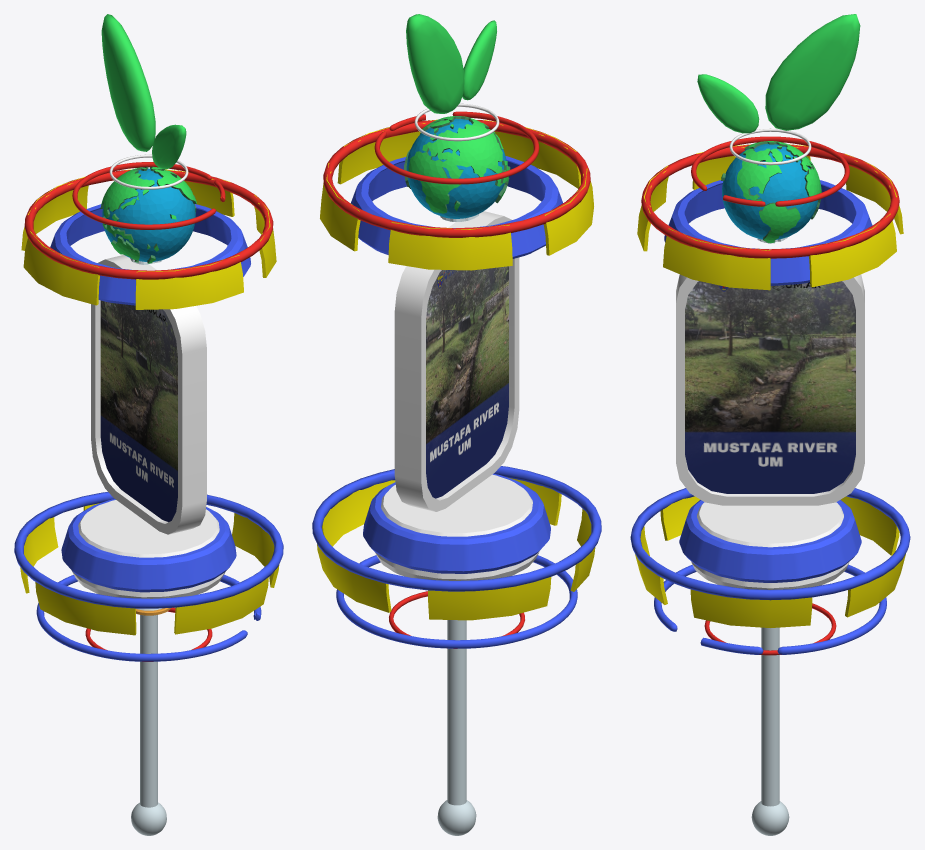
Rendered from sungai.glb.
3 renders of one model, left to right at view 1: azimuth 30°, elevation 25°; view 2: azimuth 150°, elevation 25°; view 3: azimuth 270°, elevation 25°, orthographic. The views are drawn at different scales.
Parts seen in each view (by area): view 1: pCube3, polySurface2, pasted__pSphere8, pasted__pSphere6, pasted__pCylinder9, Sphere, pasted__pCylinder10, pCube5, pasted__polySurface27, pasted__polySurface28, pasted__pCone1, pasted__polySurface30 (+3 smaller); view 2: pCube3, polySurface2, pasted__pSphere8, pasted__pSphere6, pasted__pCylinder9, Sphere, pasted__pCylinder10, pasted__polySurface27, pCube5, pasted__polySurface28, pasted__polySurface30, pasted__pCone1 (+4 smaller); view 3: pCube3, pasted__pSphere8, pCube5, pasted__pSphere6, Sphere, pasted__pCylinder9, pasted__pCylinder10, polySurface2, pasted__polySurface27, pasted__polySurface28, pasted__polySurface30, pasted__pCone1 (+4 smaller).
Boxes of the visible parts, bbox=[...] form: pCube3: bbox=[100, 300, 177, 522]; polySurface2: bbox=[91, 255, 206, 534]; pasted__pSphere8: bbox=[21, 169, 276, 309]; pasted__pSphere6: bbox=[20, 503, 279, 635]; pasted__pCylinder9: bbox=[61, 499, 236, 592]; Sphere: bbox=[100, 166, 196, 264]; pasted__pCylinder10: bbox=[71, 500, 225, 598]; pCube5: bbox=[101, 14, 186, 169]; pasted__polySurface27: bbox=[14, 492, 283, 608]; pasted__polySurface28: bbox=[24, 170, 273, 279]; pasted__pCone1: bbox=[131, 608, 166, 835]; pasted__polySurface30: bbox=[50, 204, 250, 305]; pCube3: bbox=[426, 266, 508, 498]; polySurface2: bbox=[394, 211, 519, 511]; pasted__pSphere8: bbox=[320, 119, 593, 270]; pasted__pSphere6: bbox=[317, 477, 595, 620]; pasted__pCylinder9: bbox=[363, 473, 550, 573]; Sphere: bbox=[404, 116, 510, 221]; pasted__pCylinder10: bbox=[375, 474, 539, 580]; pasted__polySurface27: bbox=[312, 466, 601, 591]; pCube5: bbox=[406, 14, 496, 113]; pasted__polySurface28: bbox=[323, 120, 590, 237]; pasted__polySurface30: bbox=[350, 156, 562, 258]; pasted__pCone1: bbox=[437, 620, 476, 835]; pCube3: bbox=[685, 281, 855, 493]; pasted__pSphere8: bbox=[637, 144, 903, 290]; pCube5: bbox=[697, 14, 860, 133]; pasted__pSphere6: bbox=[635, 496, 905, 627]; Sphere: bbox=[721, 141, 821, 243]; pasted__pCylinder9: bbox=[679, 500, 861, 582]; pasted__pCylinder10: bbox=[691, 502, 849, 589]; polySurface2: bbox=[676, 248, 864, 505]; pasted__polySurface27: bbox=[630, 488, 910, 600]; pasted__polySurface28: bbox=[641, 144, 899, 258]; pasted__polySurface30: bbox=[664, 180, 872, 285]; pasted__pCone1: bbox=[751, 627, 789, 835].
Size of the model in its own units: 0.0149 by 0.0481 by 0.0149.
10 materials, 1 textured.
